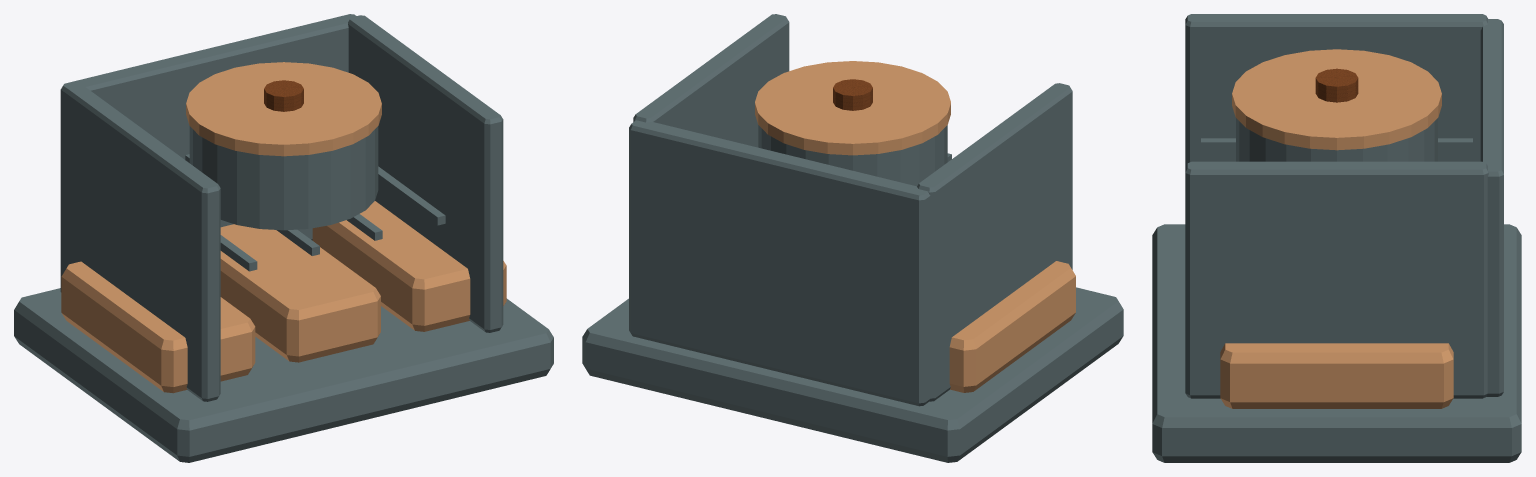
Rendered from ocean-raft-settlement-ocean-raft-settlement-cooking-he-eba7b7c1__28916.glb.
3 views of the same model, side by side, from view 1: azimuth 30°, elevation 25°; view 2: azimuth 150°, elevation 25°; view 3: azimuth 270°, elevation 25° (orthographic). The views are drawn at different scales.
Parts seen in each view (by area): view 1: iron, copper, wood; view 2: iron, copper, wood; view 3: iron, copper, wood.
Part boxes in pixels (<box>): iron: <box>14,14,553,462</box>; copper: <box>61,62,506,393</box>; wood: <box>264,80,303,111</box>; iron: <box>582,14,1123,462</box>; copper: <box>755,61,1075,392</box>; wood: <box>833,79,872,110</box>; iron: <box>1152,14,1521,462</box>; copper: <box>1220,49,1453,408</box>; wood: <box>1315,68,1358,102</box>.
Bounding box in the file's own units: 1.2 × 0.82 × 0.9501.
Materials: 3 (1 with a texture image).
